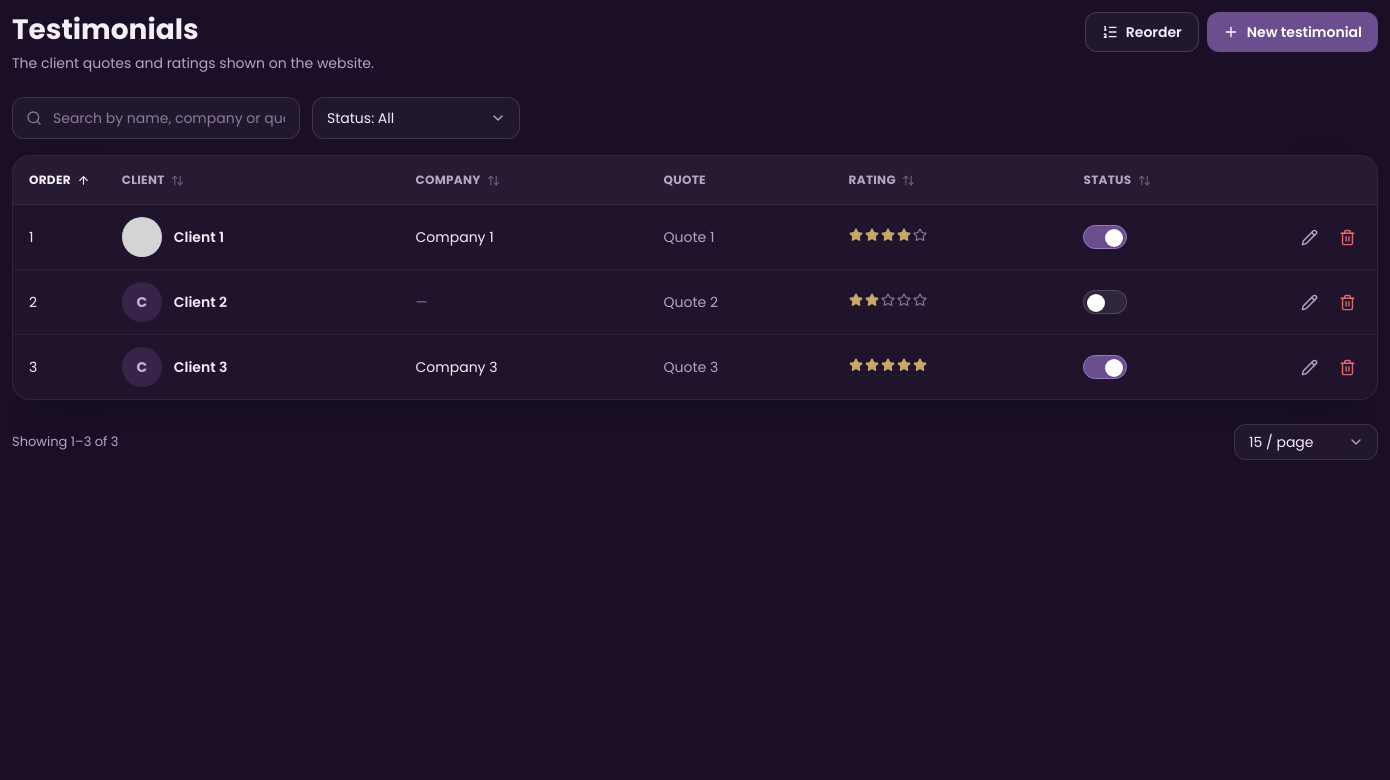
Test: TestimonialList › active toggle › sends only is_active and shows the saved toast
Expected: the text "Client 1" is shown, top-left (174, 227), bottom-right (224, 247)
Click the switch named "Active: Client 1" at (1106, 237), box top-left (1084, 225), bottom-right (1128, 249)
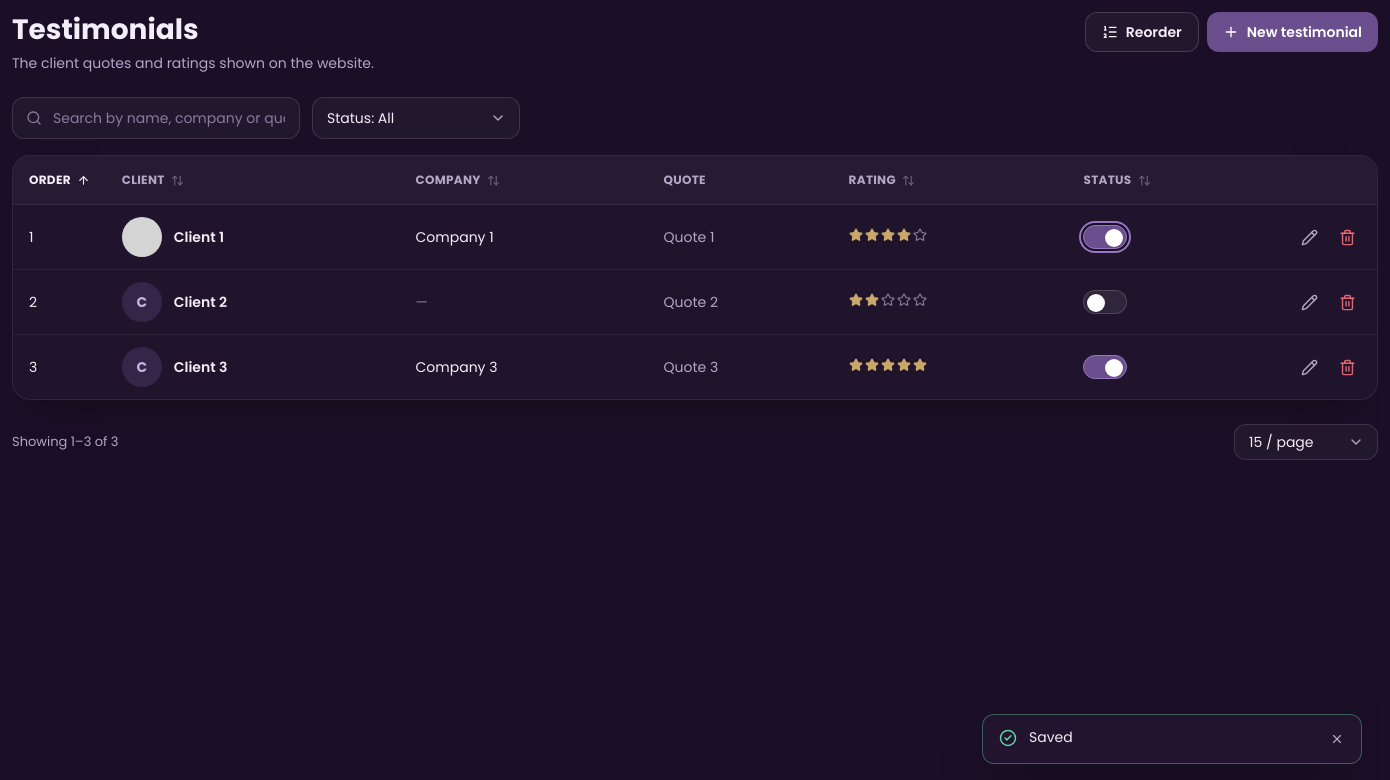
Expected: the text "Saved" is shown, top-left (1029, 727), bottom-right (1073, 747)
